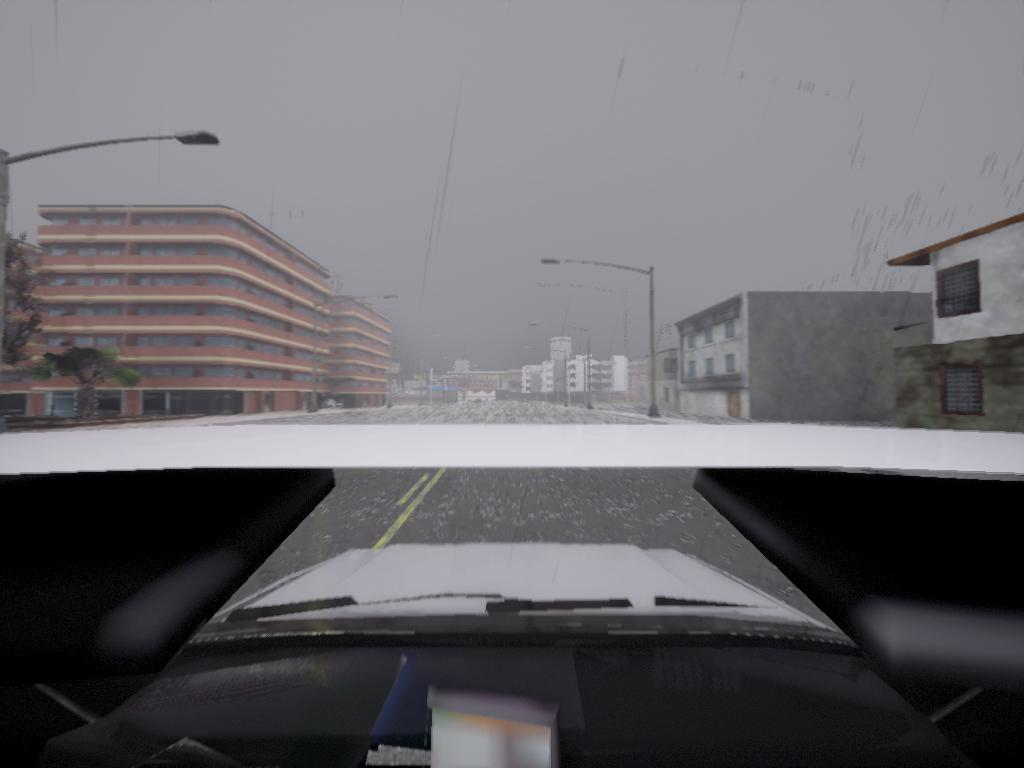traffic_light: (470, 375, 473, 382), (486, 375, 489, 381), (456, 375, 458, 381)
